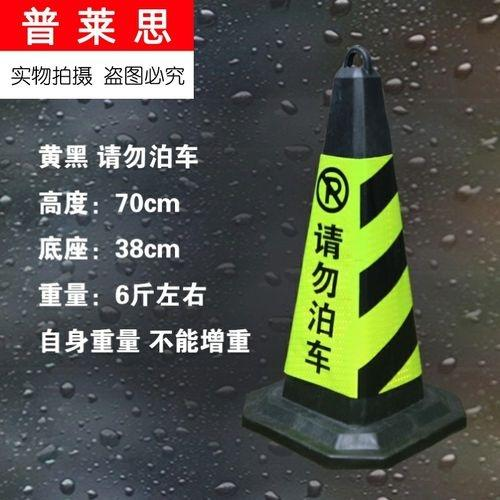cone_barrel: (257, 44, 455, 460)
